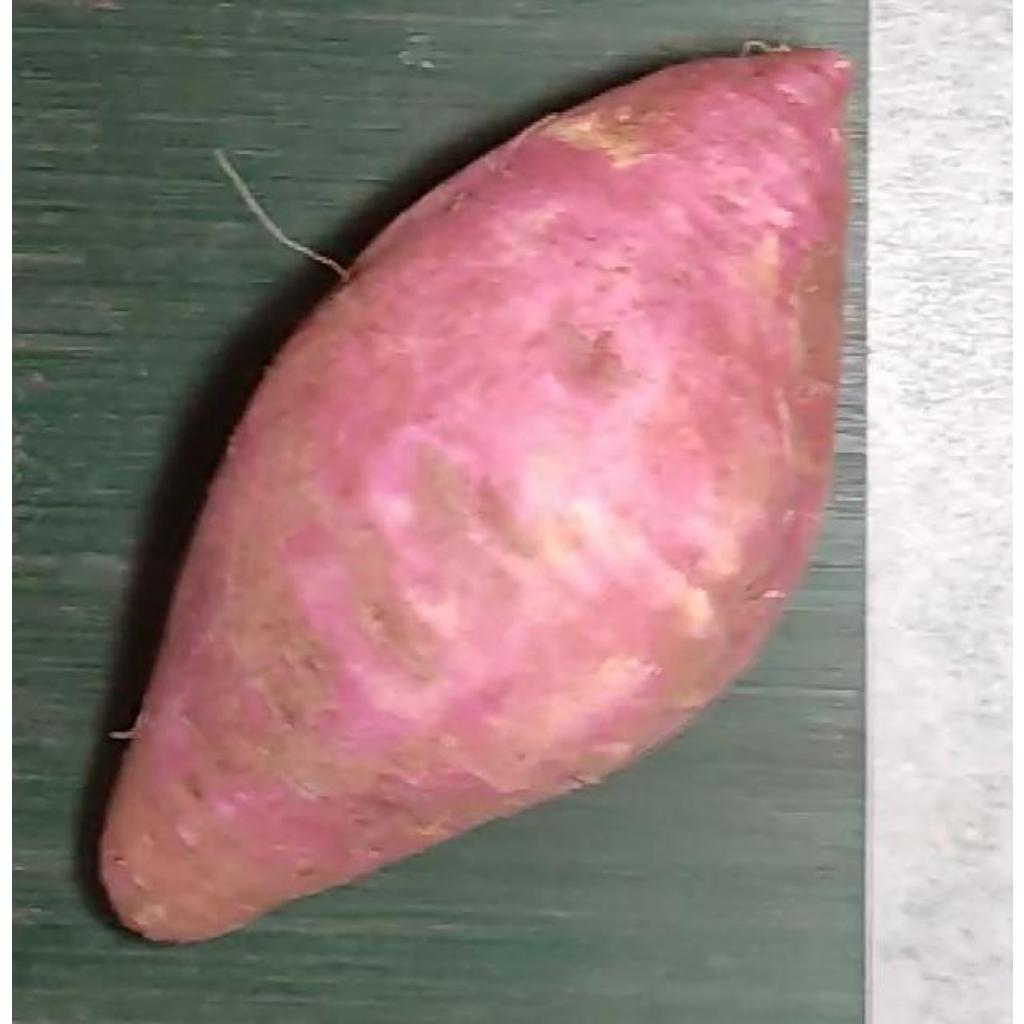Sweet Potato: (91, 45, 854, 949)
